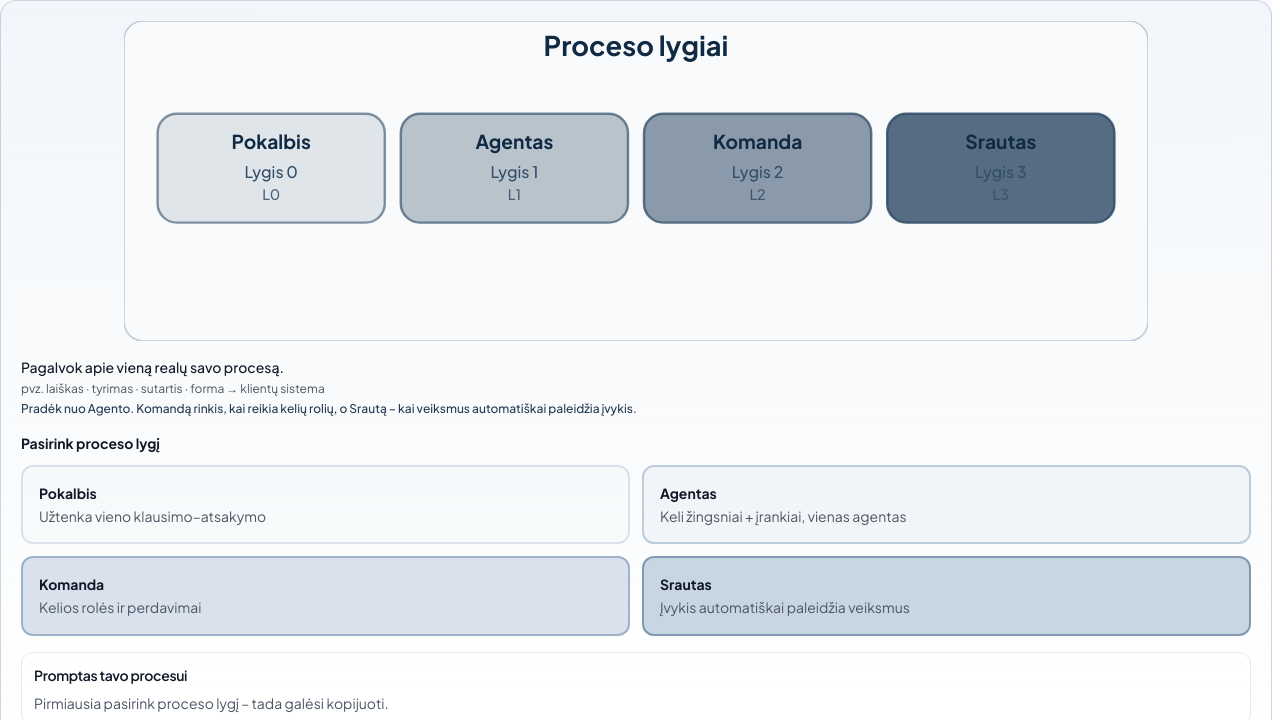
M10DepthRolesLabBlock › reveals team roles, router toggle and artifact after Komanda
This screenshot has width=1280, height=720.
Click the radio button labelled "Komanda Kelios rolės ir perdavimai".
click(72, 584)  # box [21, 556, 630, 636]
(page scrolled)
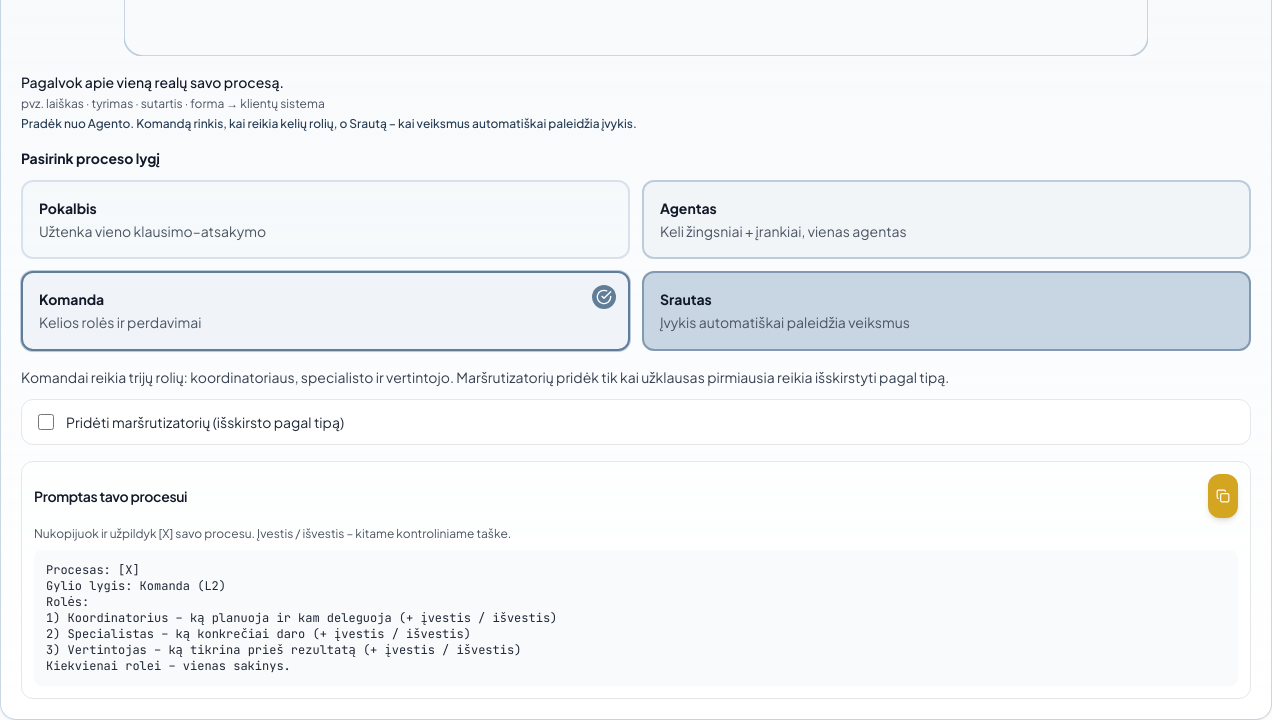
expect the checkbox labelled "Pridėti maršrutizatorių (išskirsto pagal tipą)" is shown: met
expect the button named "Kopijuoti promptą" is shown: met, box [1208, 474, 1238, 518]
expect the text "1) Koordinatorius" is shown: met, box [46, 562, 557, 674]
Click the checkbox labelled "Pridėti maršrutizatorių (išskirsto pagal tipą)".
click(46, 422)  # box [38, 414, 54, 430]
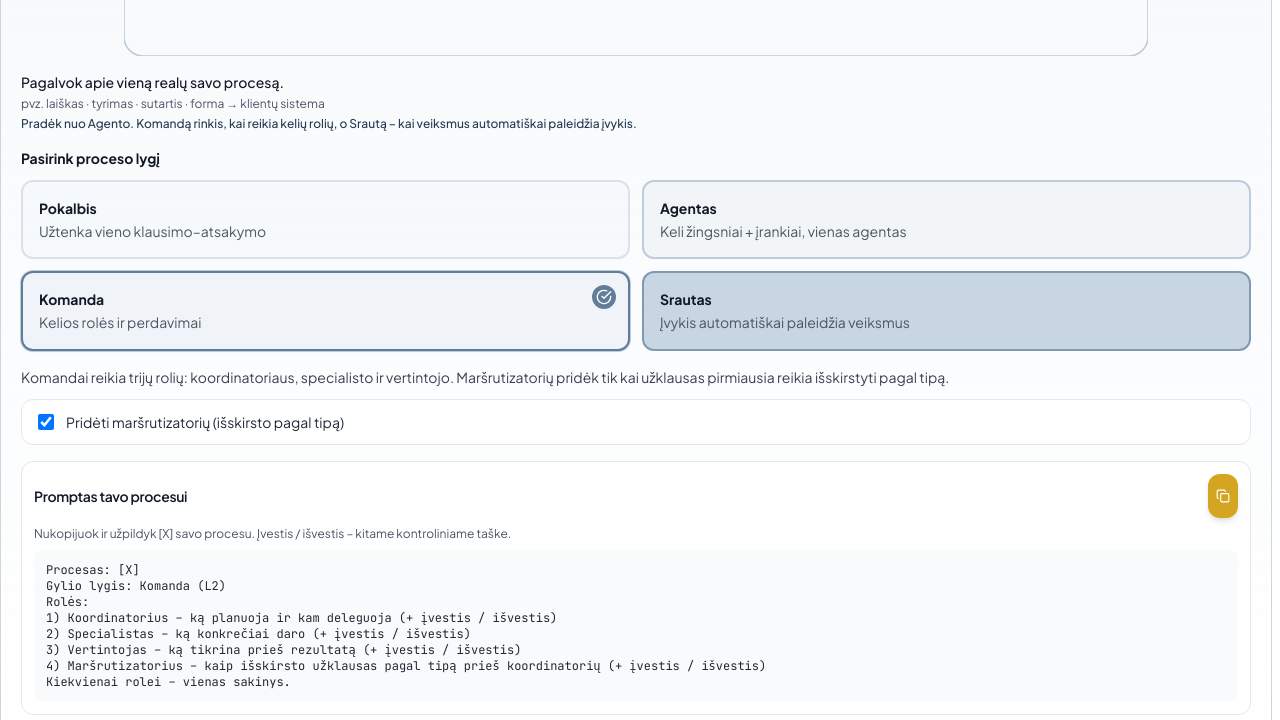
expect the text "4) Maršrutizatorius" is shown: met, box [46, 562, 766, 690]
